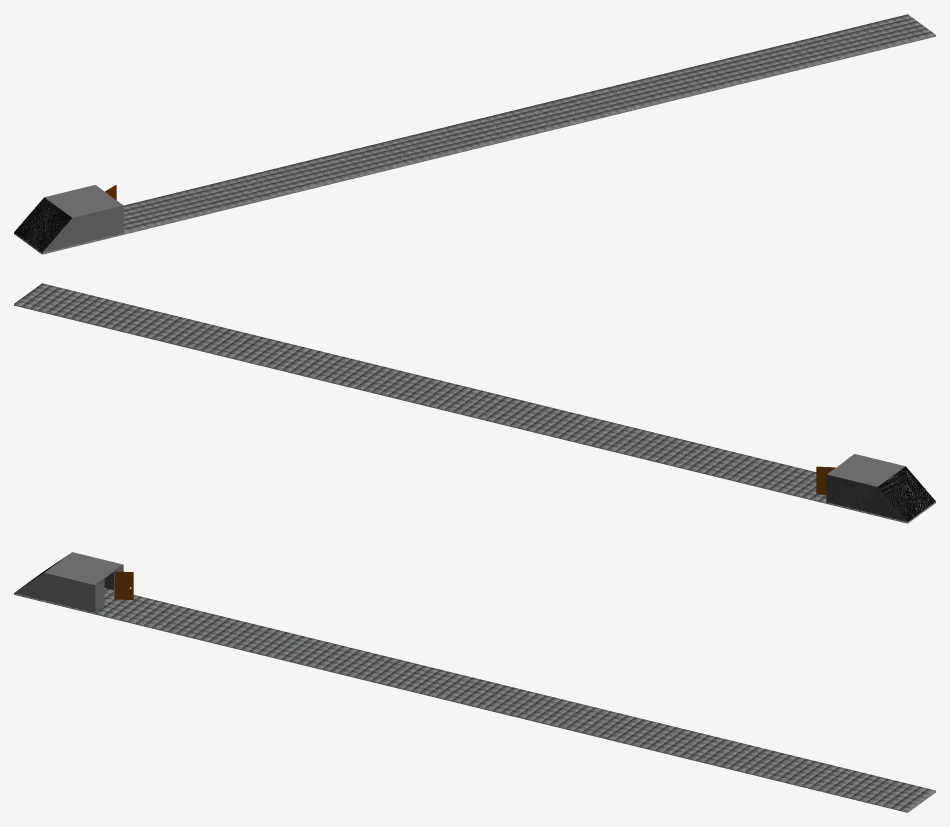
Rendered from room.dae.
3 renders of one model, top to bottom at view 1: azimuth 30°, elevation 25°; view 2: azimuth 150°, elevation 25°; view 3: azimuth 330°, elevation 25°, orthographic.
Visible parts, largest first — view 1: group_2 (×2); view 2: group_2 (×3); view 3: group_2, group_1.
Part boxes in pixels (<box>): group_2 (×2): <box>14,185,123,252</box>; group_2 (×3): <box>826,454,935,521</box>; group_2: <box>14,552,122,612</box>; group_1: <box>114,571,133,600</box>.
Bounding box in the file's own units: 54068 × 2953 × 1700.
